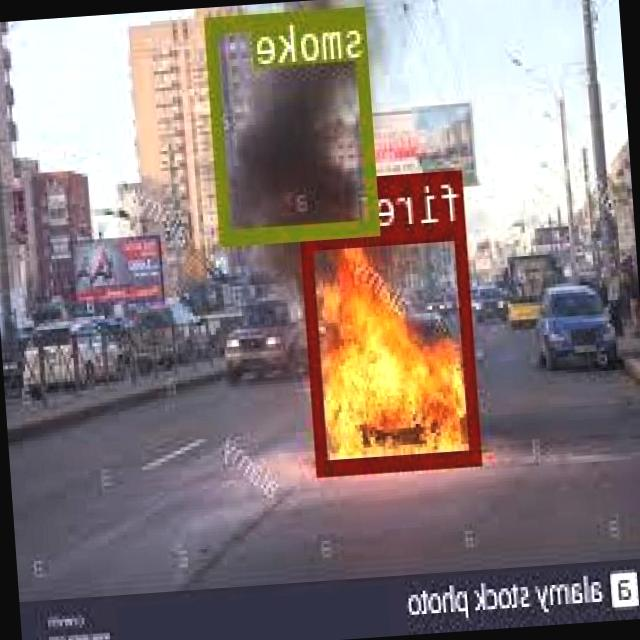fire: (302, 222, 482, 472)
smoke: (208, 5, 383, 244)
